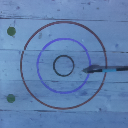Axe Tip: (82, 69, 93, 71)
